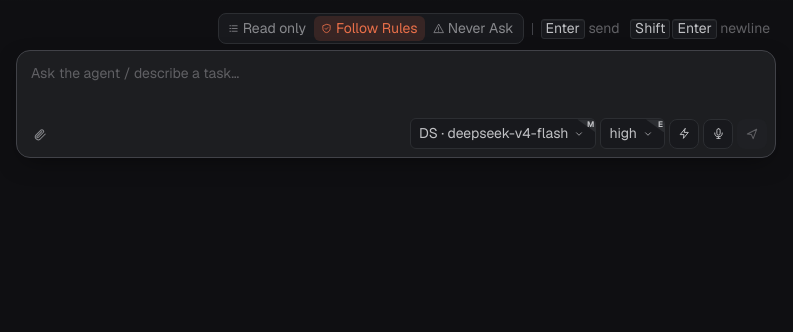
Test: Composer quick send dropdown › marks the persisted default row active in the dropdown
Click the button named "Quick send". click: x=684, y=134
box: [669,119,699,149]
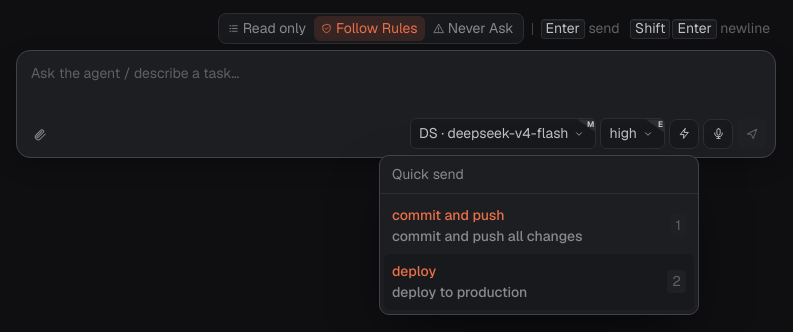
Now the element showing "deploy deploy to production 2" is shown, box [384,254,694,310]
